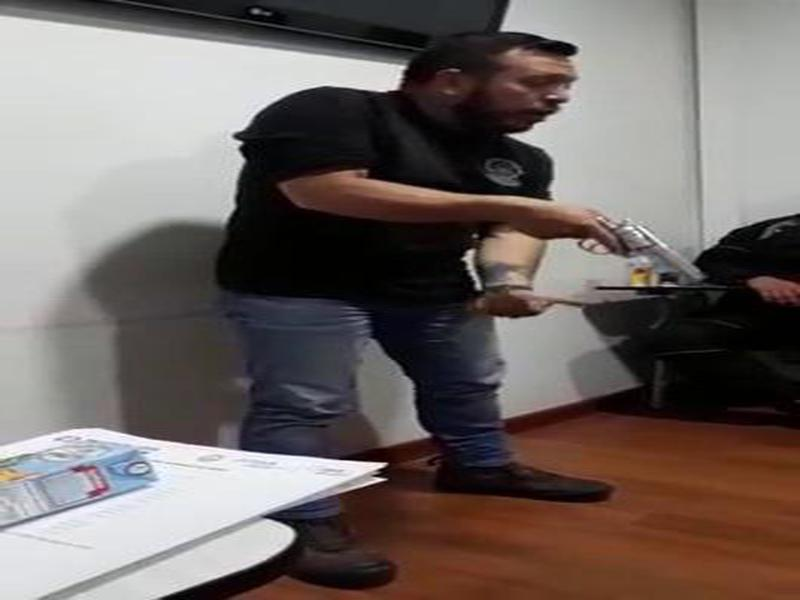Revolver: (550, 185, 724, 318)
